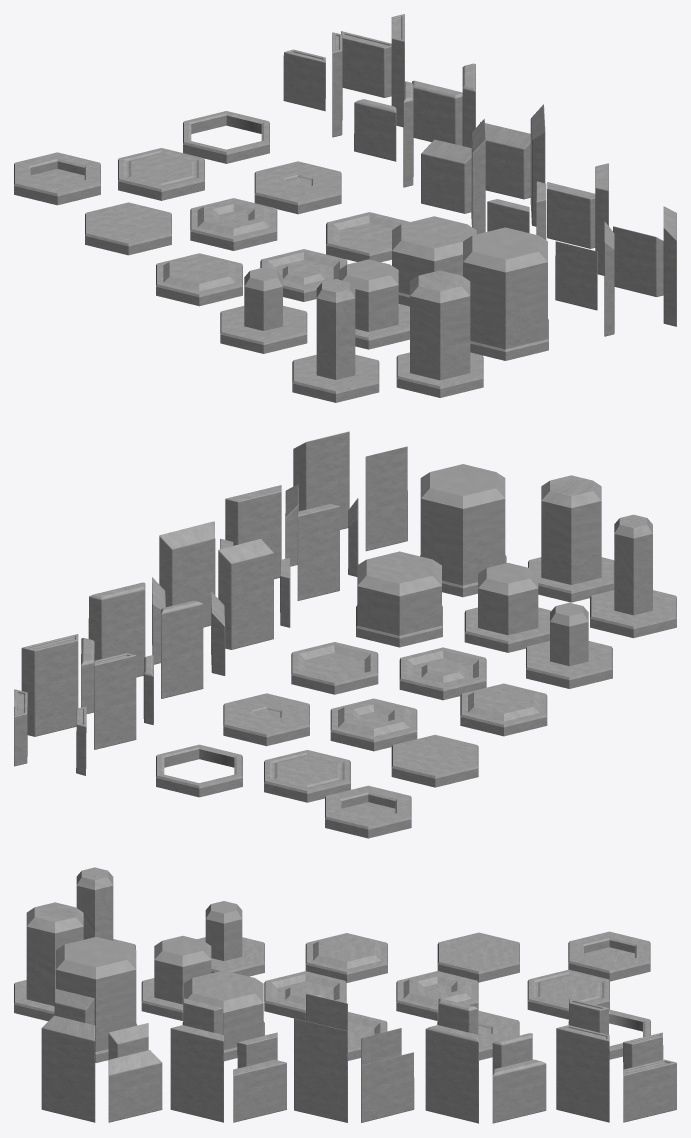
The model's file is low-poly_hexagon_tile_set.glb.
The picture shows the model from 3 angles, top to bottom: view 1: azimuth 30°, elevation 25°; view 2: azimuth 150°, elevation 25°; view 3: azimuth 270°, elevation 25°; orthographic projection. The views are drawn at different scales.
Visible parts, largest first — view 1: T15, T14, T13, T10, T11, T12, T02, T03, T01, T07, T05, T04 (+23 smaller); view 2: T15, T14, T12, T13, T11, E3IH, E1OH, T10, E3OH, E5IH, E5OH, E2OH (+22 smaller); view 3: T15, E5OH, E3OH, T14, E2OH, E1OH, E4OH, T12, T11, E5OL, T01, T07 (+23 smaller).
Boxes of the visible parts, x1,y1,x2,y2 form: T15: (463,227,548,360); T14: (396,270,483,397); T13: (292,279,379,402); T10: (220,267,307,353); T11: (338,259,409,349); T12: (392,216,476,306); T02: (190,198,277,250); T03: (254,161,341,214); T01: (85,202,171,255); T07: (156,253,242,306); T05: (118,148,204,200); T04: (14,152,100,205); T15: (420,464,506,597); T14: (528,475,614,602); T12: (356,551,442,647); T13: (590,514,676,638); T11: (464,563,550,652); E3IH: (218,539,273,649); E1OH: (21,634,78,736); T10: (526,602,612,688); E3OH: (159,521,215,627); E5IH: (365,446,407,551); E5OH: (293,431,349,529); E2OH: (88,582,145,677); T15: (56,937,137,1062); E5OH: (41,1015,95,1122); E3OH: (294,1018,347,1122); T14: (14,902,83,1021); E2OH: (425,1025,478,1123); E1OH: (556,1025,609,1122); E4OH: (170,1025,223,1122); T12: (182,970,264,1061); T11: (141,935,211,1020); E5OL: (108,1050,162,1122); T01: (437,932,519,982); T07: (305,933,387,982).
Size of the model in its own units: 9.03 by 2.14 by 13.95.
1 material, 1 textured.
